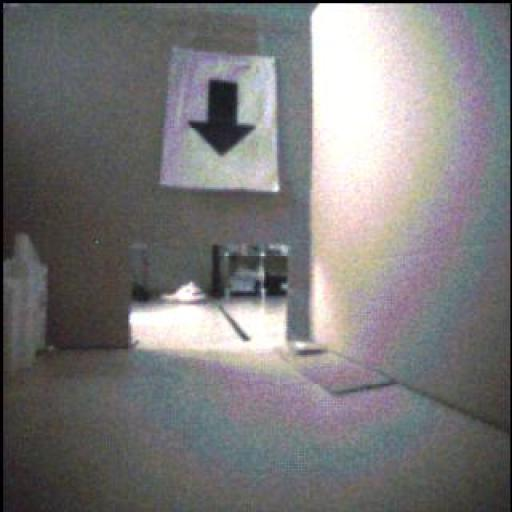arrow: (190, 81, 255, 156)
